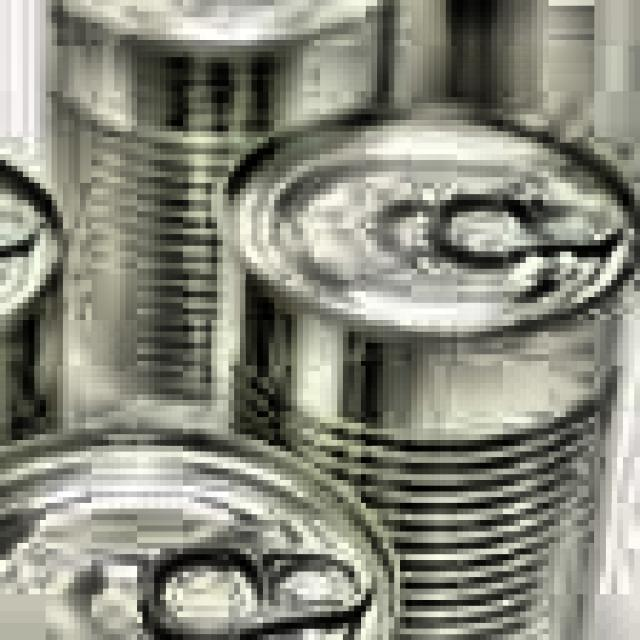metal: (205, 91, 640, 639), (23, 0, 406, 451), (0, 400, 411, 640), (354, 0, 640, 286)
